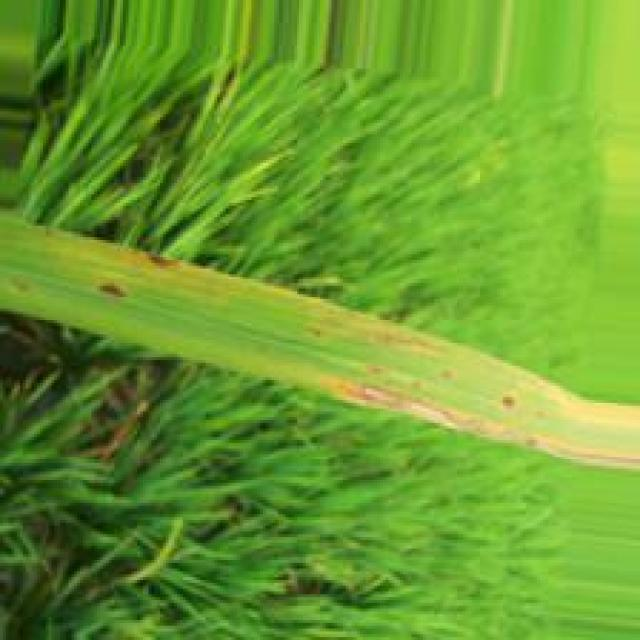Leaf_Blast: (321, 373, 515, 442), (142, 253, 184, 271)
